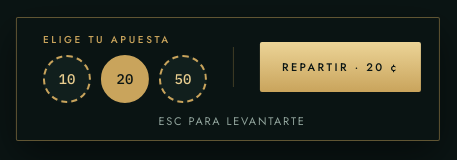
Scenario: BlackjackBar › before a hand › shows the deal in progress while the request is open
Click the button with class "action" at (340, 67), box [260, 42, 421, 92]
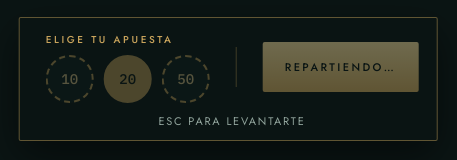
Expected: the button with class "action" reads "Repartiendo…", [263, 42, 418, 92]
Expected: the button with class "action" is disabled, [263, 42, 418, 92]
